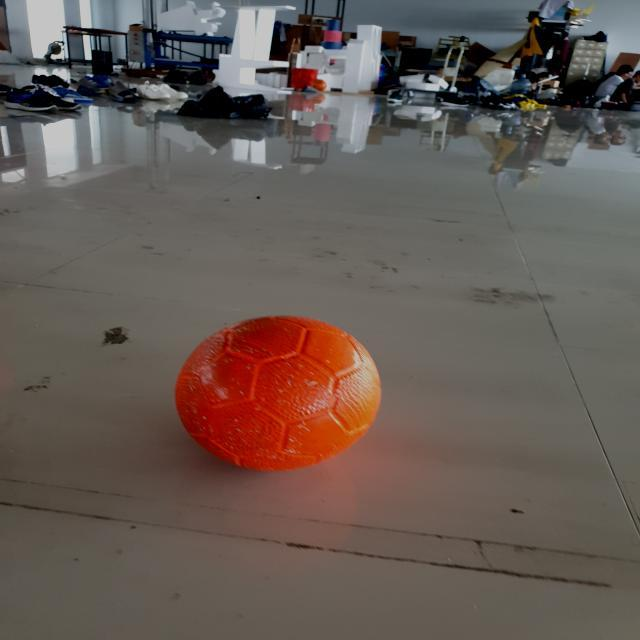bola: (138, 298, 412, 500)
